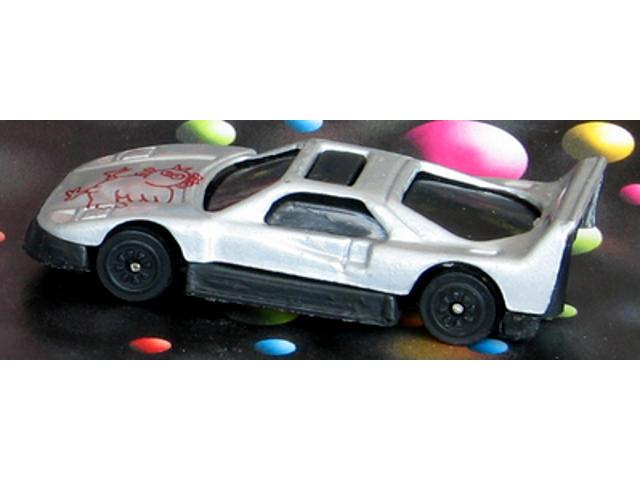toy-car: (23, 138, 607, 346)
